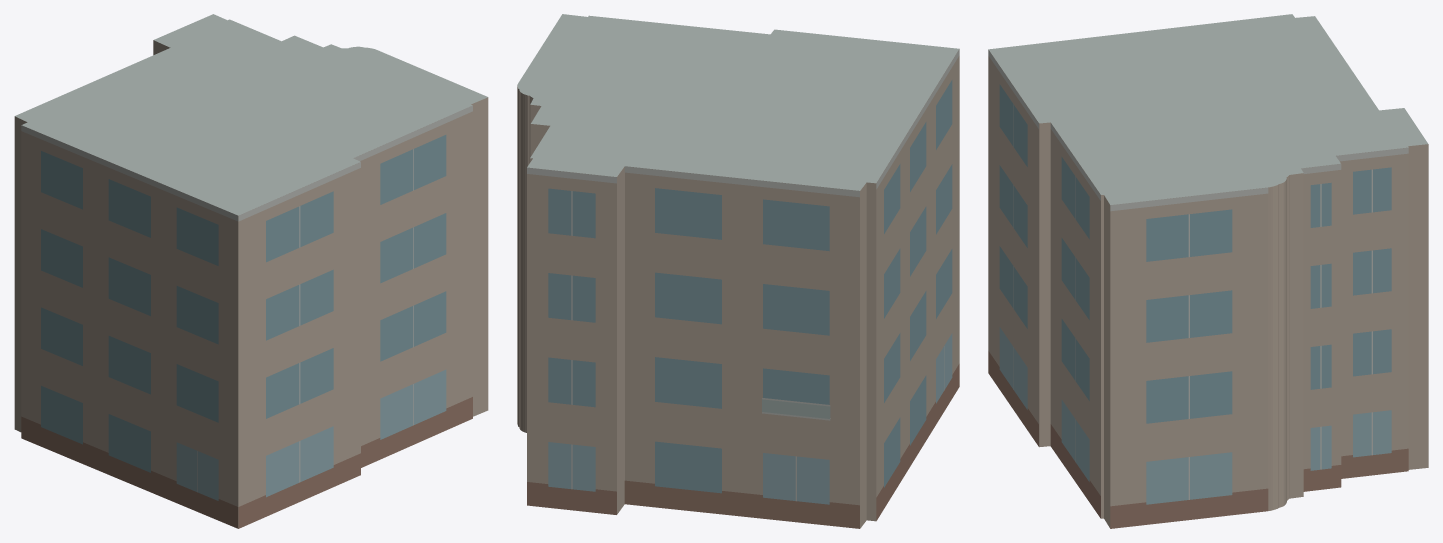
File: survey-upis-32664963.glb
3 renders of one model, left to right at view 1: azimuth 30°, elevation 25°; view 2: azimuth 150°, elevation 25°; view 3: azimuth 270°, elevation 25°, orthographic. The views are drawn at different scales.
Visible parts, largest first — view 1: survey-upis-32664963.tmp; view 2: survey-upis-32664963.tmp; view 3: survey-upis-32664963.tmp.
Boxes of the visible parts, <box> form: survey-upis-32664963.tmp: <box>14,14,488,528</box>; survey-upis-32664963.tmp: <box>517,14,959,528</box>; survey-upis-32664963.tmp: <box>988,14,1428,528</box>.
Bounding box in the file's own units: 16.35 × 12.9 × 15.91.
